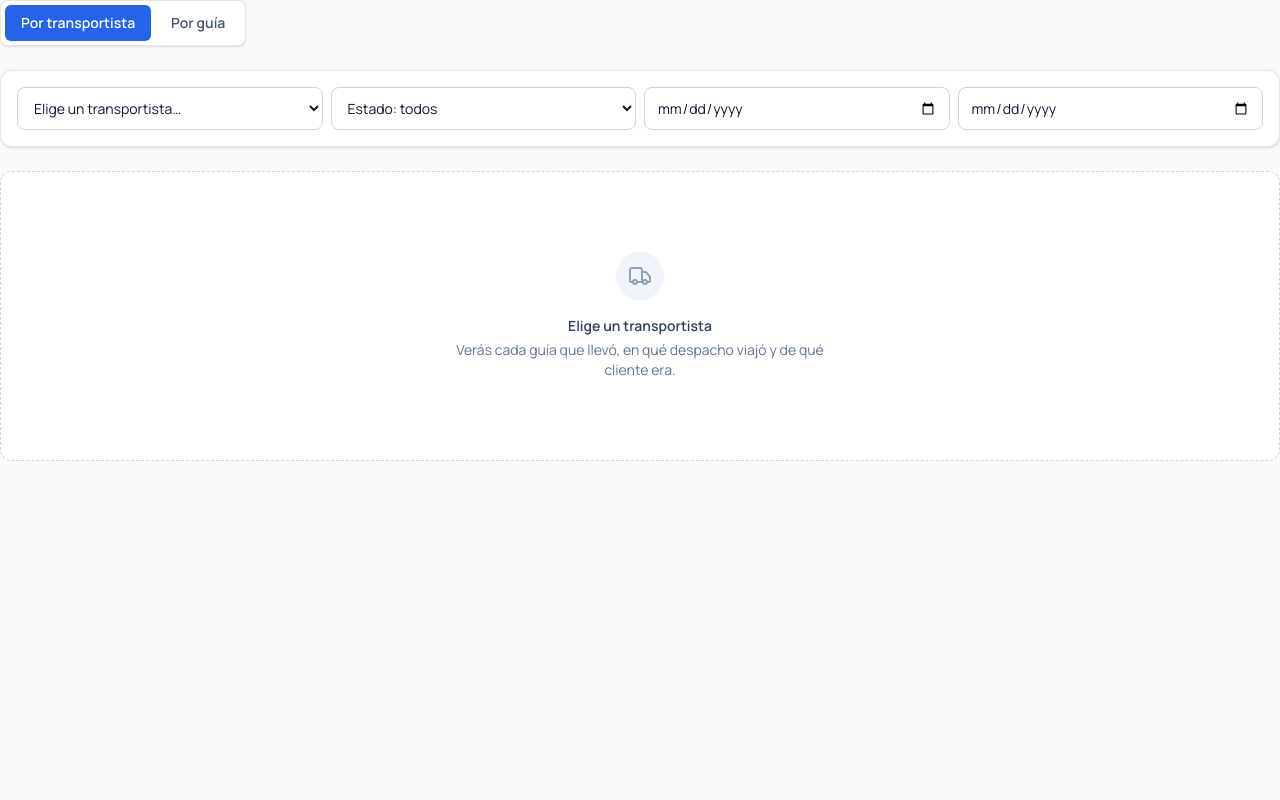
TrazabilidadView › says plainly when a carrier took nothing, instead of showing an empty table
Step 1. Select "Fletes del Norte" in the dropdown named "Transportista" → [170, 108], box [17, 87, 322, 130]
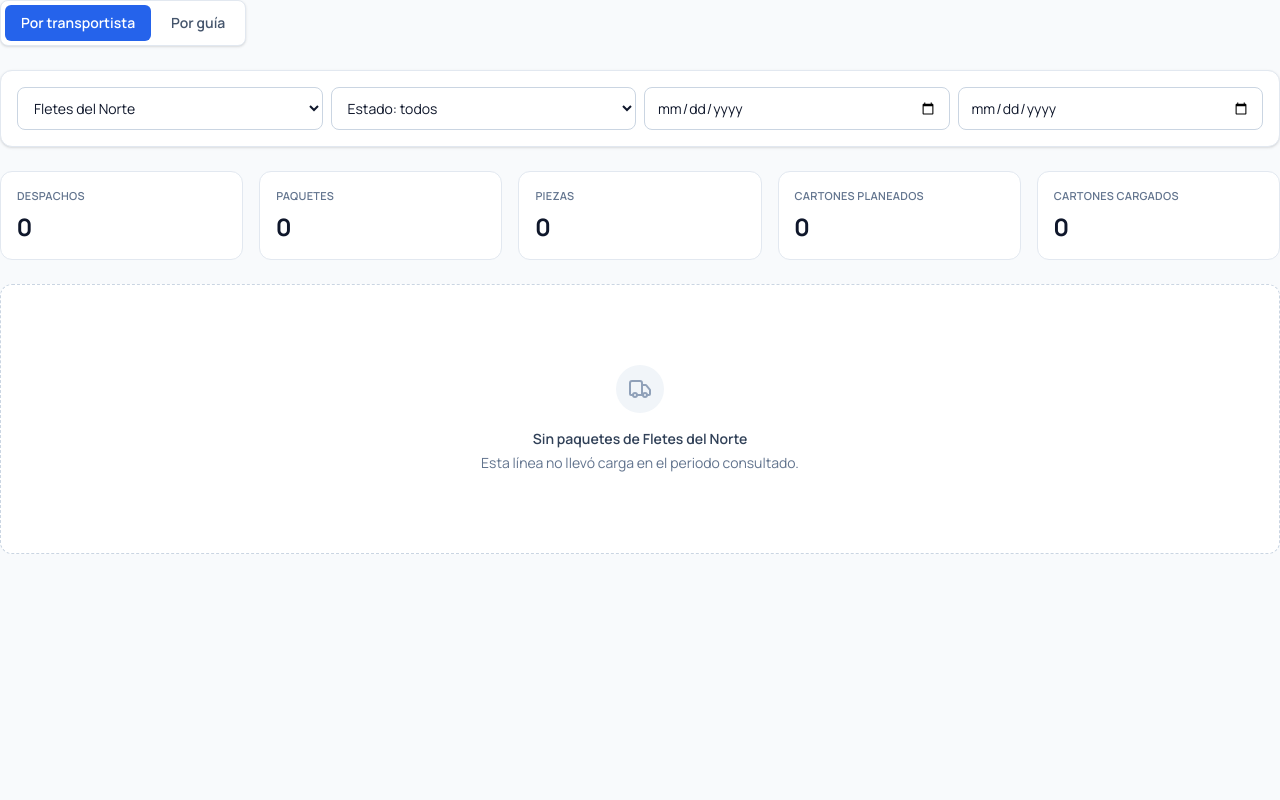
Expected: the text "Sin paquetes de Fletes del Norte" is shown, [533, 428, 747, 448]
